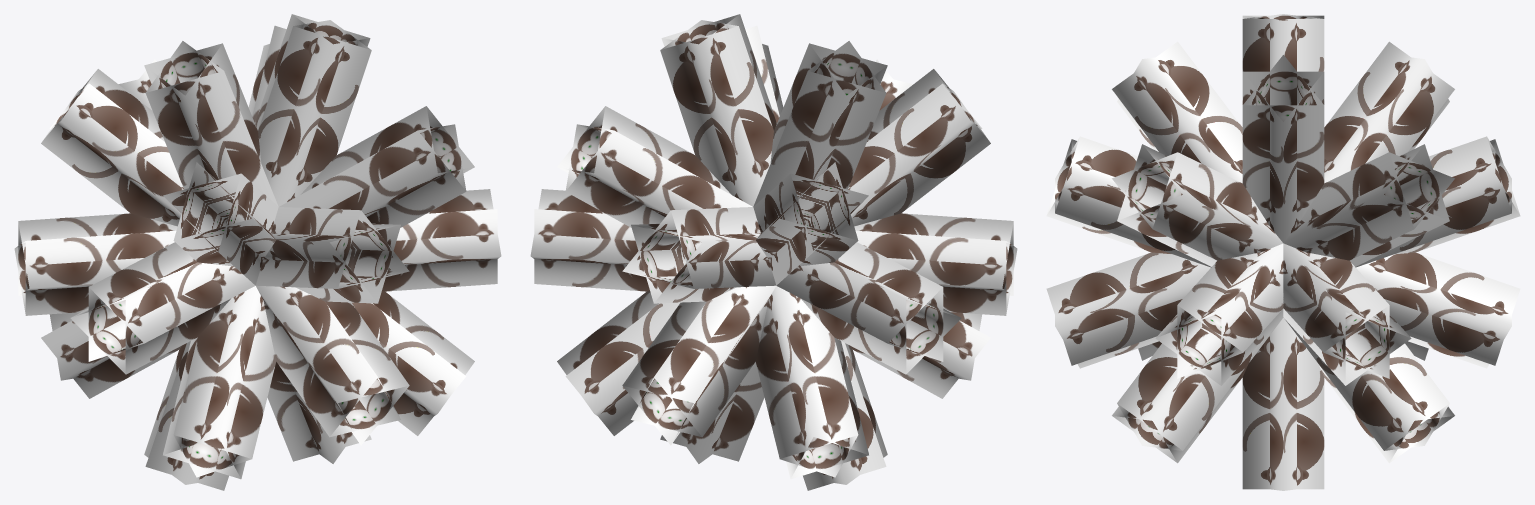
File: StarGreatDodecahemicosacron24.gltf
3 views of the same model, side by side, from view 1: azimuth 30°, elevation 25°; view 2: azimuth 150°, elevation 25°; view 3: azimuth 270°, elevation 25° (orthographic).
Parts seen in each view (by area): view 1: StarGreatDodecahemicosacron; view 2: StarGreatDodecahemicosacron; view 3: StarGreatDodecahemicosacron.
Boxes of the visible parts, bbox=[...] form: StarGreatDodecahemicosacron: bbox=[14, 14, 501, 490]; StarGreatDodecahemicosacron: bbox=[530, 14, 1017, 490]; StarGreatDodecahemicosacron: bbox=[1046, 14, 1520, 490].
Size of the model in its own units: 10.06 by 10.06 by 10.06.
Materials: 1 (1 with a texture image).
